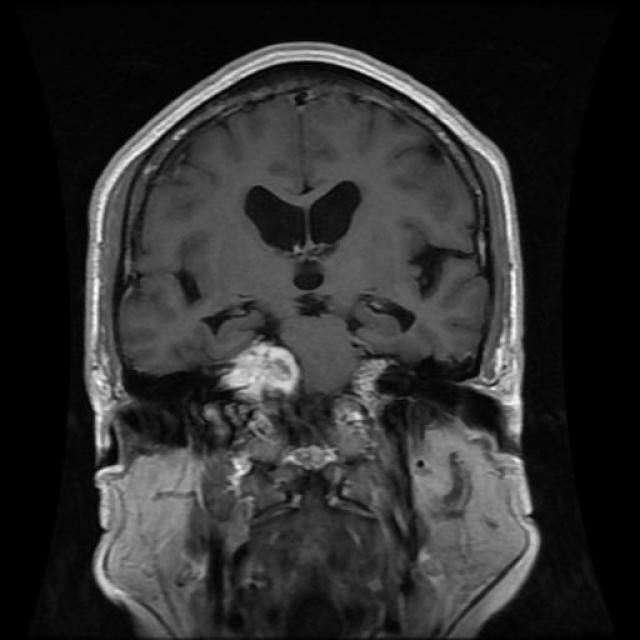meningioma: (219, 341, 300, 401)
